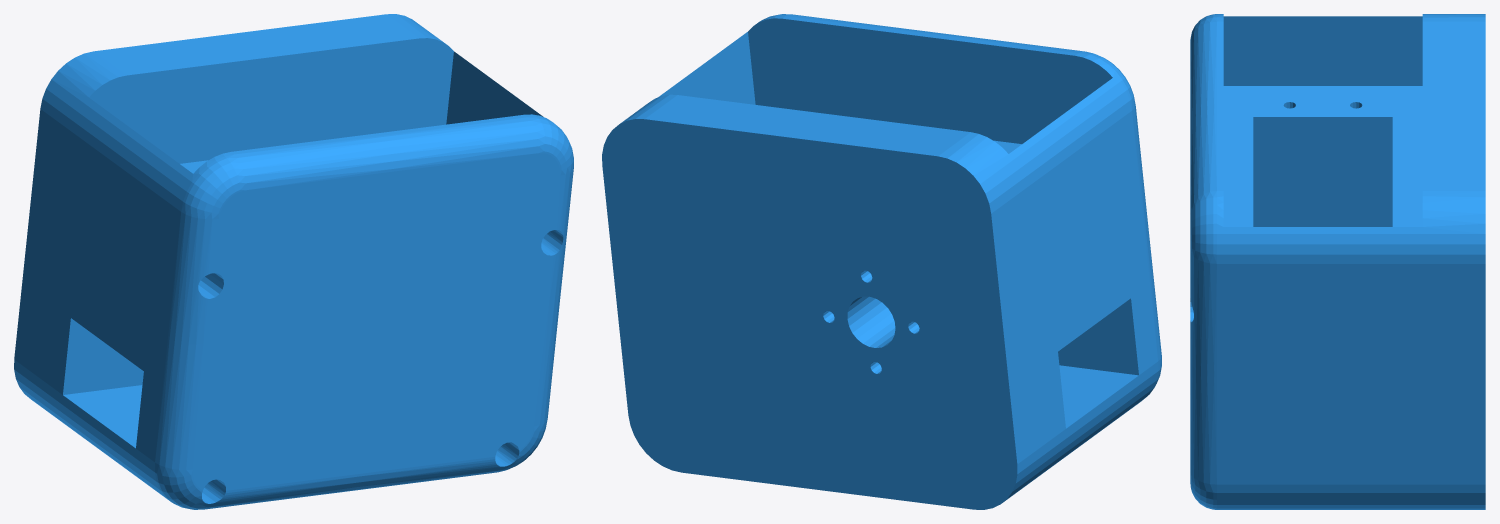
File: UMIRobot_UMIRobot_link_2_vis_3.dae
3 views of the same model, side by side, from view 1: azimuth 30°, elevation 25°; view 2: azimuth 150°, elevation 25°; view 3: azimuth 270°, elevation 25° (orthographic). The views are drawn at different scales.
Parts seen in each view (by area): view 1: node; view 2: node; view 3: node.
Part boxes in pixels (box(x1,y1,x2,y2)): node: box(14, 14, 573, 509); node: box(602, 14, 1161, 509); node: box(1190, 14, 1485, 509).
Bounding box in the file's own units: 0.069 × 0.0602 × 0.0445.
